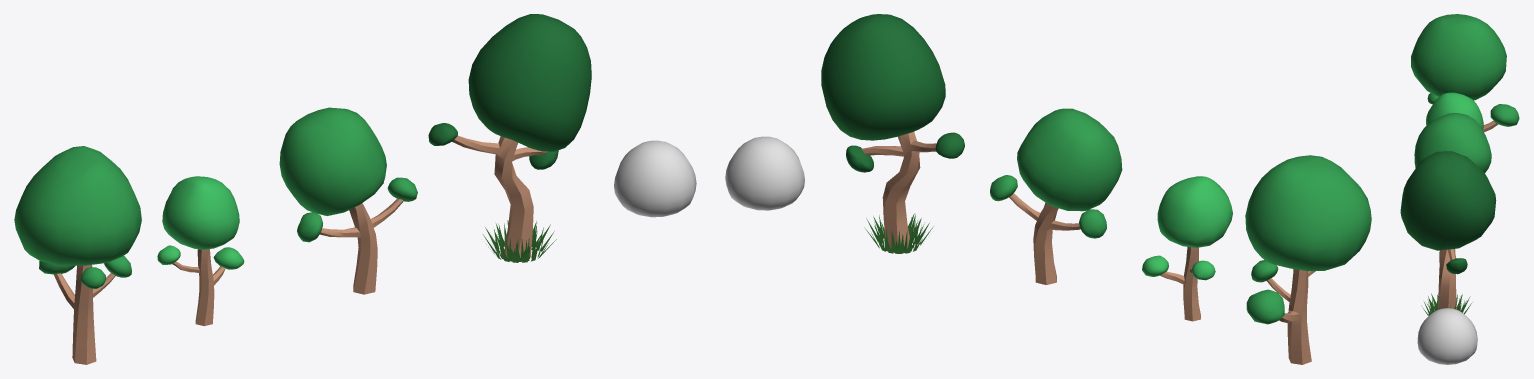
The model's file is TreeAndBush.fbx.
3 renders of one model, left to right at view 1: azimuth 30°, elevation 25°; view 2: azimuth 150°, elevation 25°; view 3: azimuth 270°, elevation 25°, orthographic. The views are drawn at different scales.
Parts seen in each view (by area): view 1: Tree1, Tree4, Tree2, Tree3, Bush1, Grass; view 2: Tree1, Tree4, Tree2, Tree3, Bush1, Grass; view 3: Tree1, Tree4, Tree2, Bush1, Tree3, Grass.
Part boxes in pixels (<box>): Tree1: <box>428,14,591,257</box>; Tree4: <box>14,146,141,364</box>; Tree2: <box>279,107,417,294</box>; Tree3: <box>157,176,244,326</box>; Bush1: <box>614,140,696,217</box>; Grass: <box>483,220,556,262</box>; Tree1: <box>821,14,964,248</box>; Tree4: <box>1245,155,1371,364</box>; Tree2: <box>990,108,1122,284</box>; Tree3: <box>1142,176,1232,321</box>; Bush1: <box>725,136,804,210</box>; Grass: <box>864,213,933,253</box>; Tree1: <box>1400,151,1496,309</box>; Tree4: <box>1411,14,1519,132</box>; Tree2: <box>1414,113,1491,262</box>; Bush1: <box>1417,308,1477,364</box>; Tree3: <box>1426,92,1483,129</box>; Grass: <box>1421,293,1472,315</box>.
Size of the model in its own units: 45.86 by 15.83 by 9.67.
